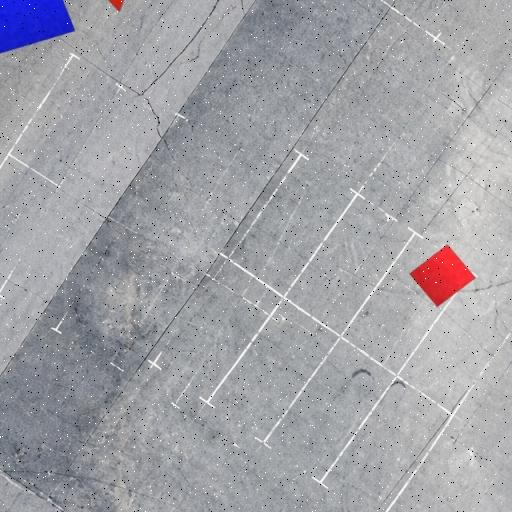RED_SQUARE: (409, 244, 477, 307)
